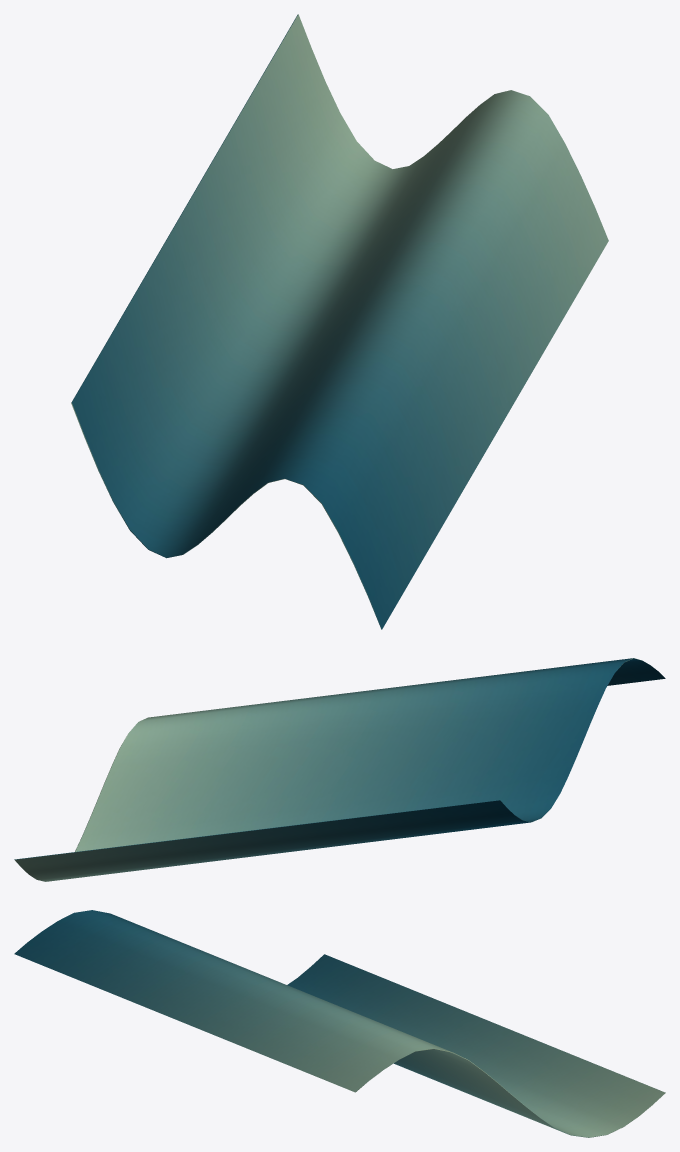
File: y=sin(x+k) mayor recorrido.fbx
3 views of the same model, one above another, from view 1: azimuth 30°, elevation 25°; view 2: azimuth 150°, elevation 25°; view 3: azimuth 270°, elevation 25° (orthographic). The views are drawn at different scales.
Parts seen in each view (by area): view 1: y_sin_x_k__k_mayor_0:Mesh; view 2: y_sin_x_k__k_mayor_0:Mesh; view 3: y_sin_x_k__k_mayor_0:Mesh.
Boxes of the visible parts, x1,y1,x2,y2 form: y_sin_x_k__k_mayor_0:Mesh: [71, 14, 608, 629]; y_sin_x_k__k_mayor_0:Mesh: [14, 658, 665, 881]; y_sin_x_k__k_mayor_0:Mesh: [14, 910, 665, 1137].
Bounding box in the file's own units: 26.69 × 7.99 × 52.91.
